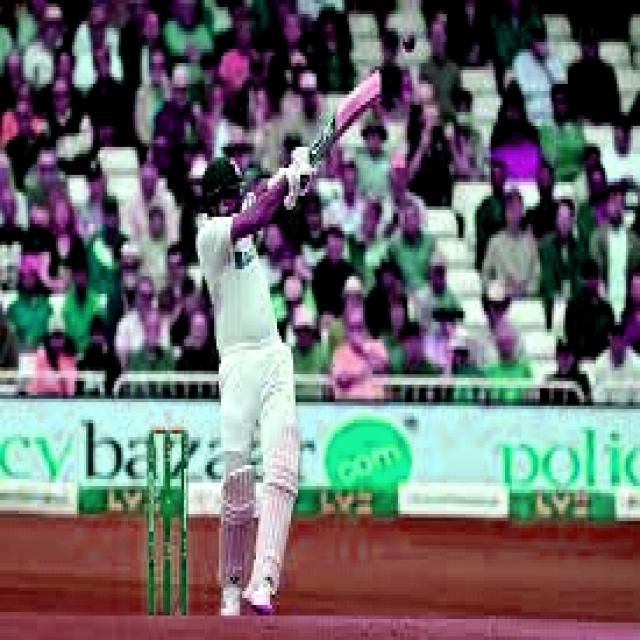toe: (374, 68, 381, 105)
